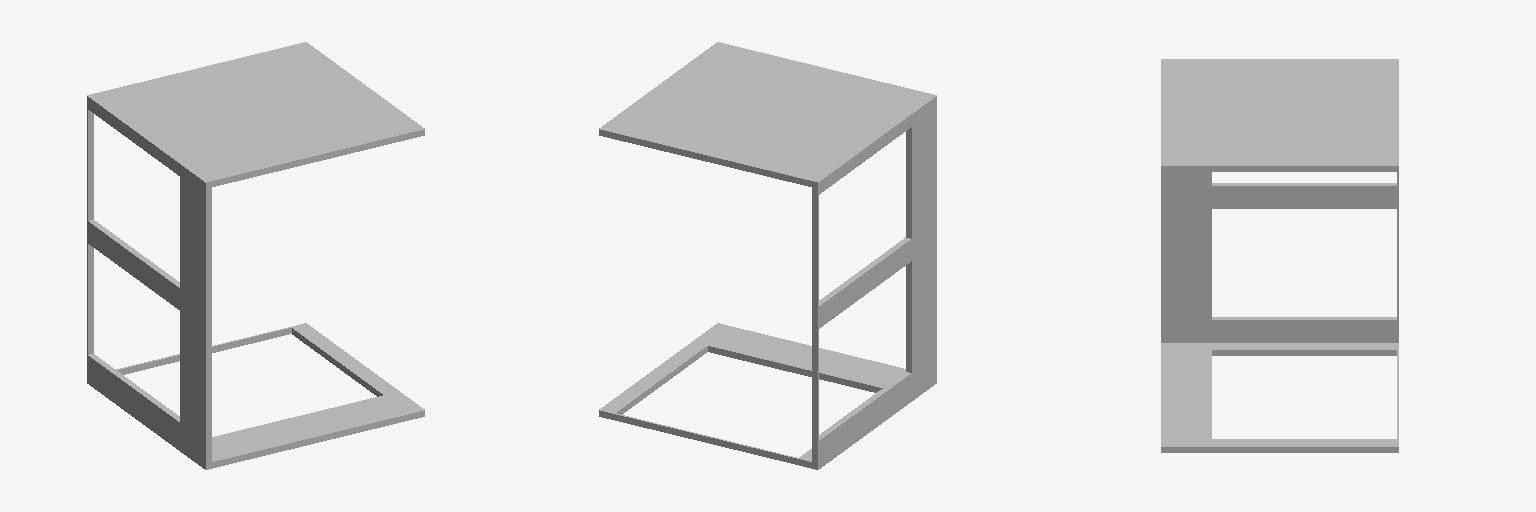
Rendered from Waende_Terras.obj.
The picture shows the model from 3 angles: view 1: azimuth 30°, elevation 25°; view 2: azimuth 150°, elevation 25°; view 3: azimuth 270°, elevation 25°; orthographic projection.
Bounding box in the file's own units: 3600 × 4500 × 3380.